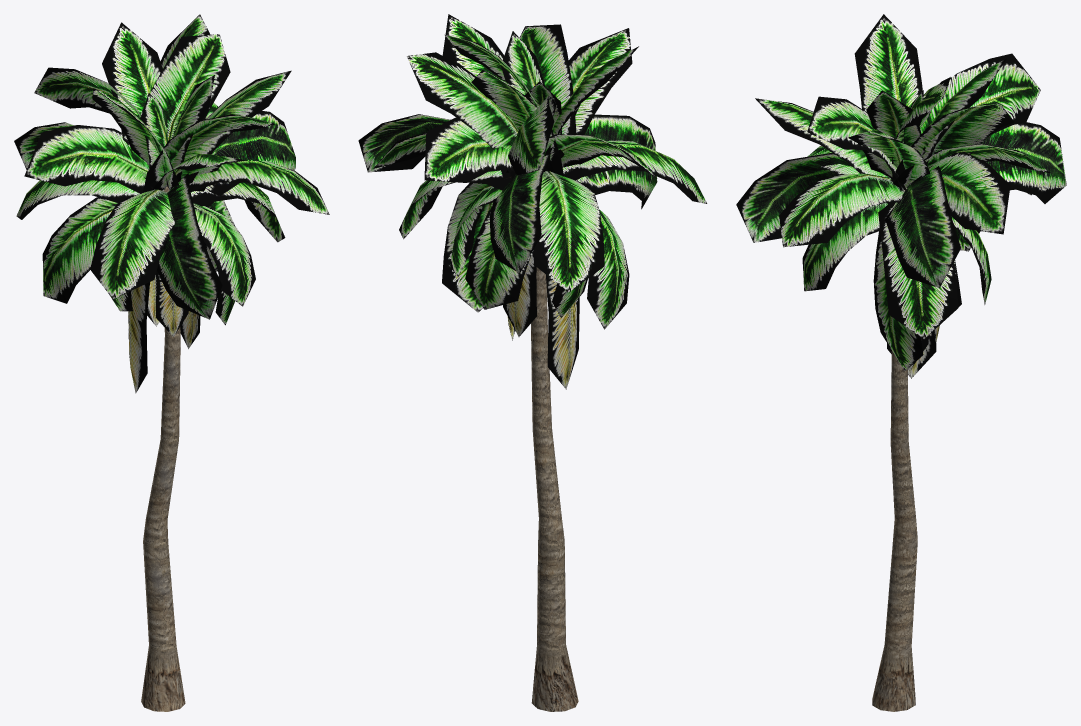
The model's file is palm2.dae.
3 renders of one model, left to right at view 1: azimuth 30°, elevation 25°; view 2: azimuth 150°, elevation 25°; view 3: azimuth 270°, elevation 25°, orthographic. The views are drawn at different scales.
Parts seen in each view (by area): view 1: polySurface335_001_002; view 2: polySurface335_001_002; view 3: polySurface335_001_002.
Part boxes in pixels (x1,y1,x2,y2): polySurface335_001_002: [14, 14, 329, 711]; polySurface335_001_002: [358, 14, 707, 711]; polySurface335_001_002: [736, 14, 1066, 711].
Bounding box in the file's own units: 6.24 × 6.39 × 13.89.
2 materials, 2 textured.
